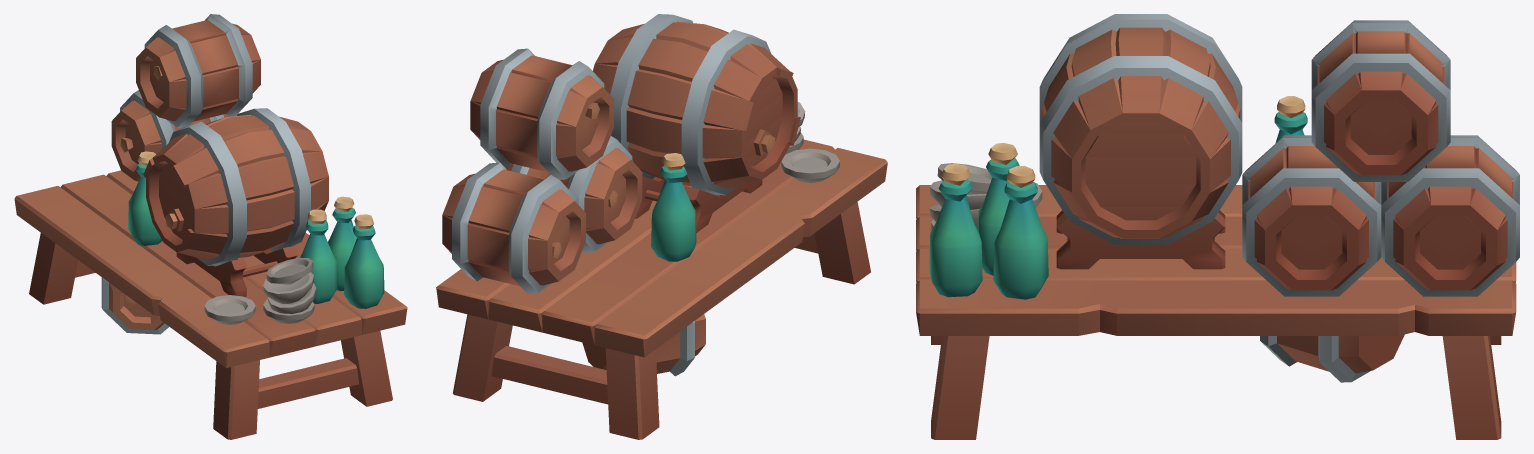
File: table_long_decorated_C.glb
3 views of the same model, side by side, from view 1: azimuth 30°, elevation 25°; view 2: azimuth 150°, elevation 25°; view 3: azimuth 270°, elevation 25° (orthographic). The views are drawn at different scales.
Parts seen in each view (by area): view 1: table_long_decorated_C; view 2: table_long_decorated_C; view 3: table_long_decorated_C.
Part boxes in pixels (x1,y1,x2,y2): table_long_decorated_C: (14, 14, 407, 439); table_long_decorated_C: (436, 14, 887, 439); table_long_decorated_C: (916, 14, 1519, 439).
Bounding box in the file's own units: 2 × 2.77 × 4.03.
Materials: 1 (1 with a texture image).
